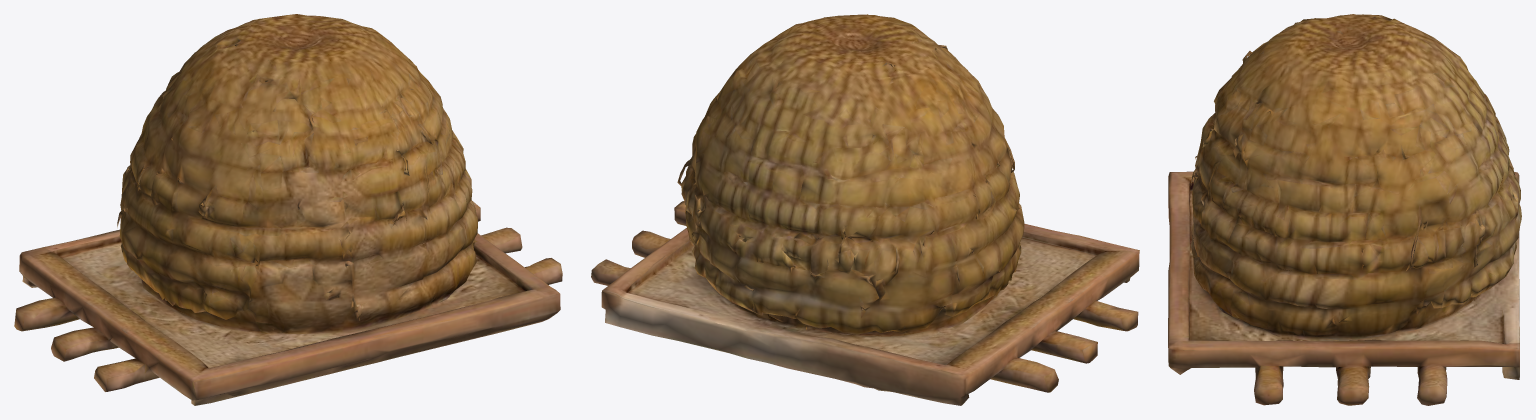
The model's file is skep.glb.
The picture shows the model from 3 angles, left to right: view 1: azimuth 30°, elevation 25°; view 2: azimuth 150°, elevation 25°; view 3: azimuth 270°, elevation 25°; orthographic projection.
Parts seen in each view (by area): view 1: model; view 2: model; view 3: model.
Part boxes in pixels (x1,y1,x2,y2): model: (14, 14, 562, 405); model: (591, 14, 1139, 405); model: (1168, 14, 1521, 405).
Bounding box in the file's own units: 1.97 × 1.09 × 1.32.
Materials: 1 (1 with a texture image).
